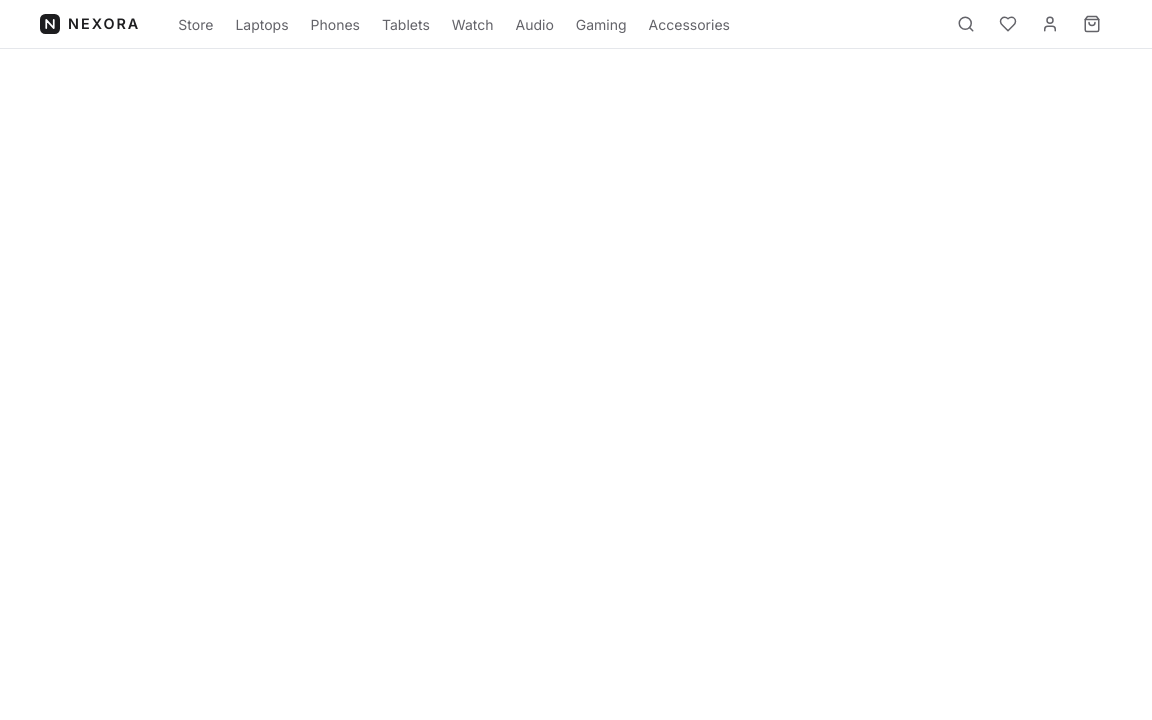
Header › closes the search dialog on Escape
This screenshot has width=1152, height=720.
Click the button named "Search the store" at point(966, 24), box top-left (946, 4), bottom-right (986, 44)
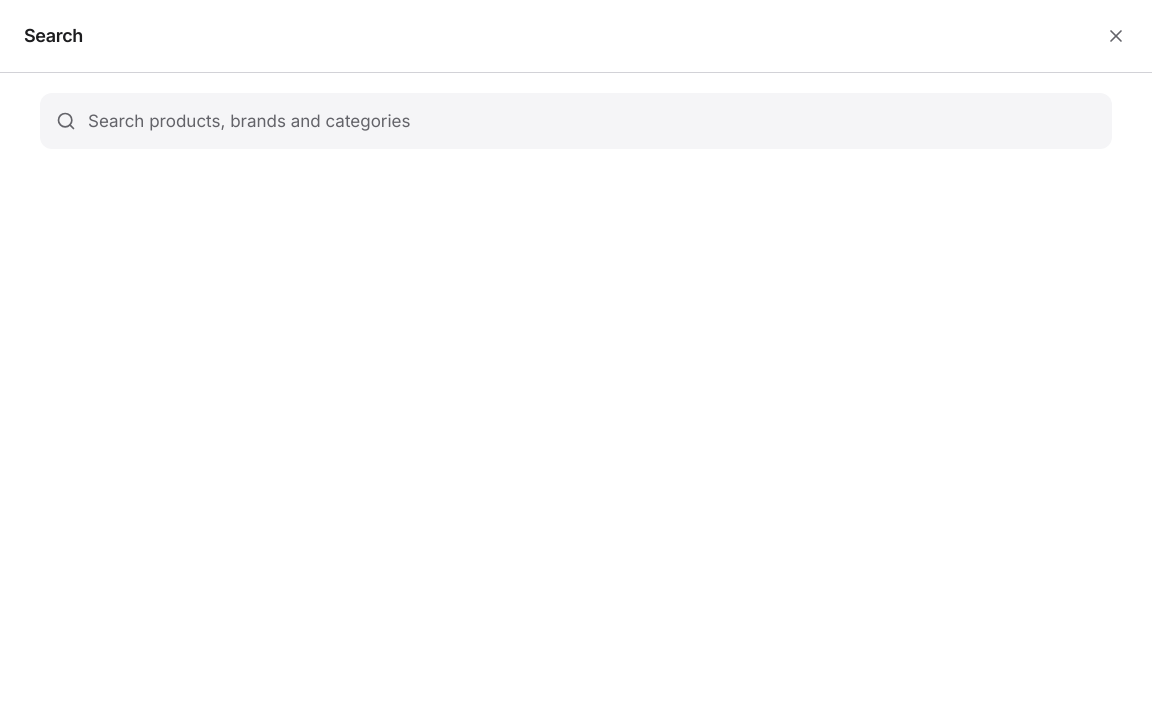
expect the dialog "Search" is shown: met
Press Escape
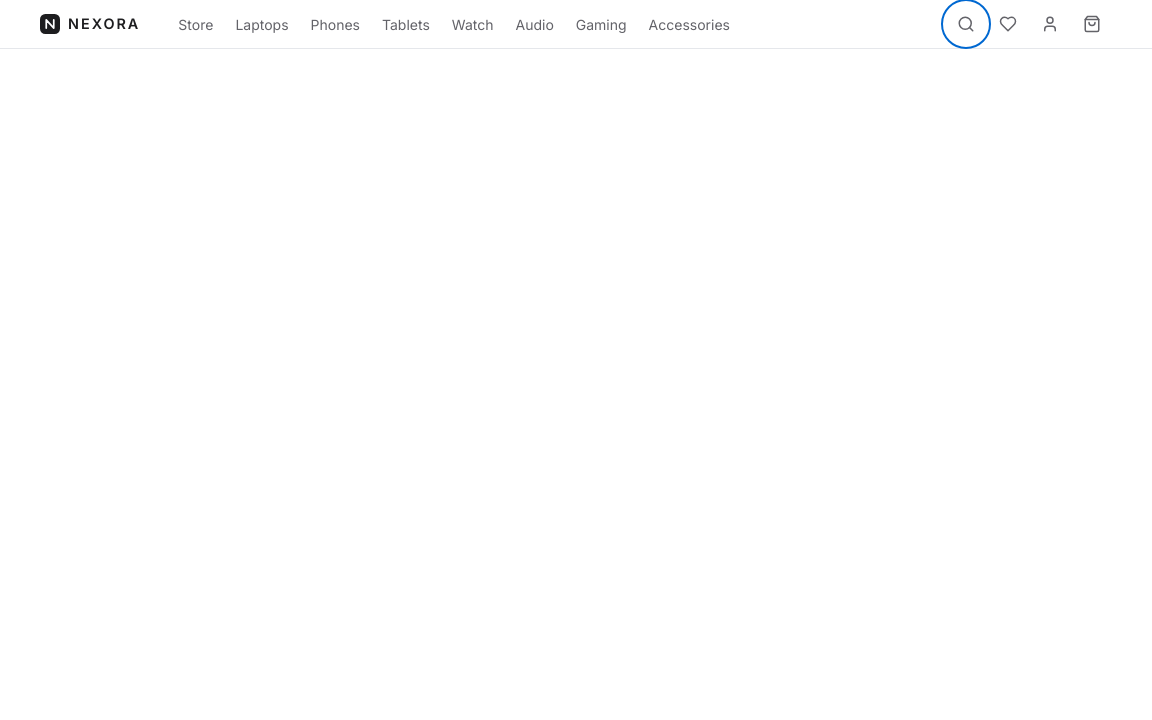
expect the heading "Search" is gone: met
